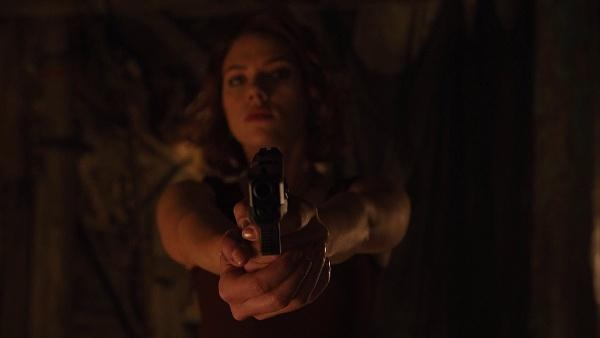Gun: (246, 147, 285, 257)
